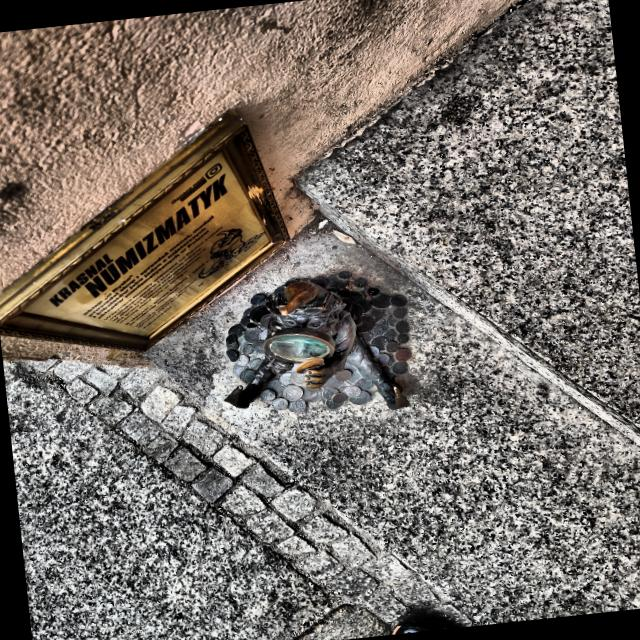Numizmatyk: (224, 270, 411, 412)
